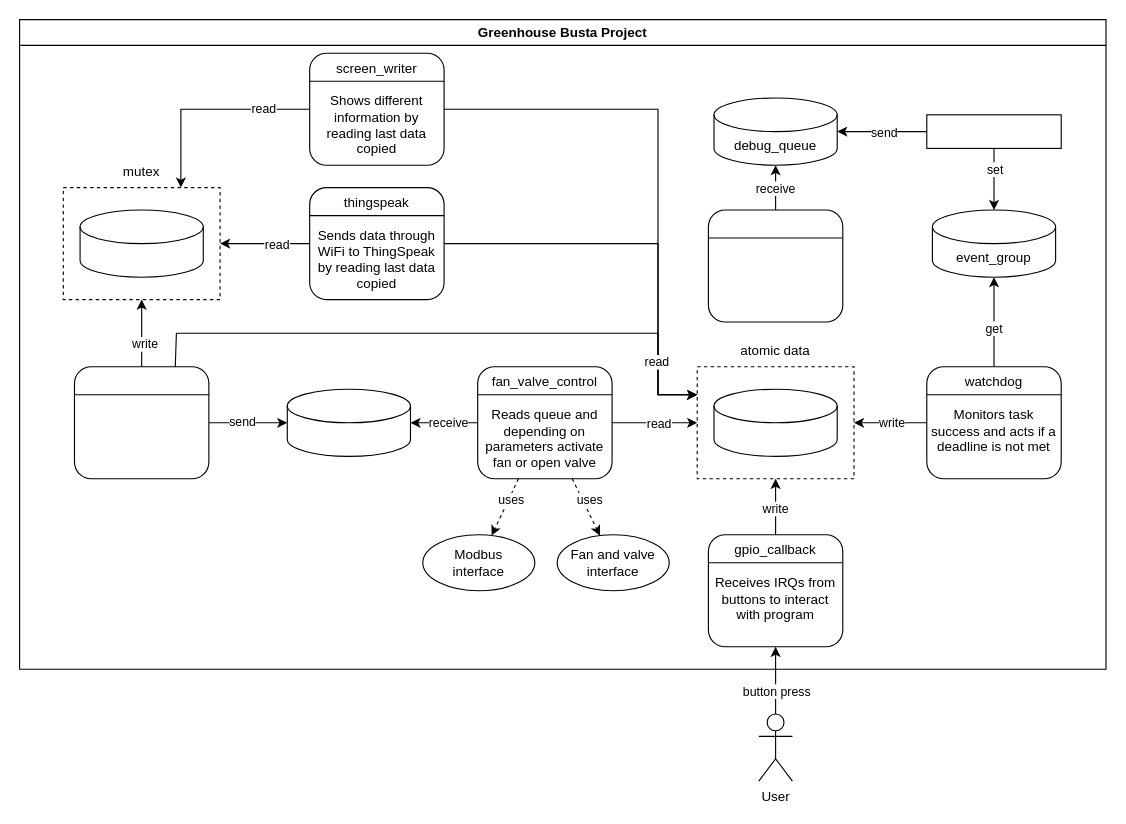
Image size: 1126x824. Some labels were removed from this diagram. The shapes that lost their labels are listed below. From the top down, each one's centre as x and y in pixels, then its label:
At (x=993, y=131): "other tasks".
At (x=141, y=243): "last_data_copied".
At (x=775, y=265): "debug Receives debug from a queue and write them when program is IDLE".
At (x=141, y=422): "sensors_reader Read SPD610, GMP and HMP sensors and put them in queue".
At (x=348, y=422): "sensors_queue".
At (x=775, y=422): "config_data".
